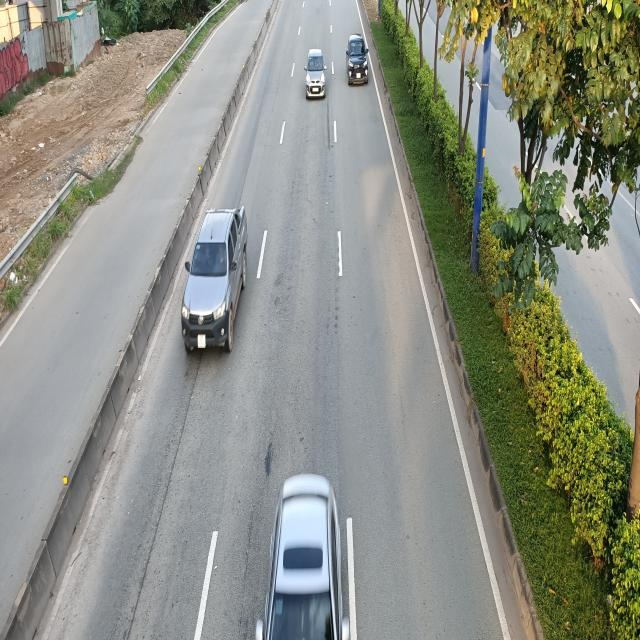car: (255, 474, 351, 638), (182, 207, 248, 354), (346, 33, 370, 85), (304, 48, 328, 99)
